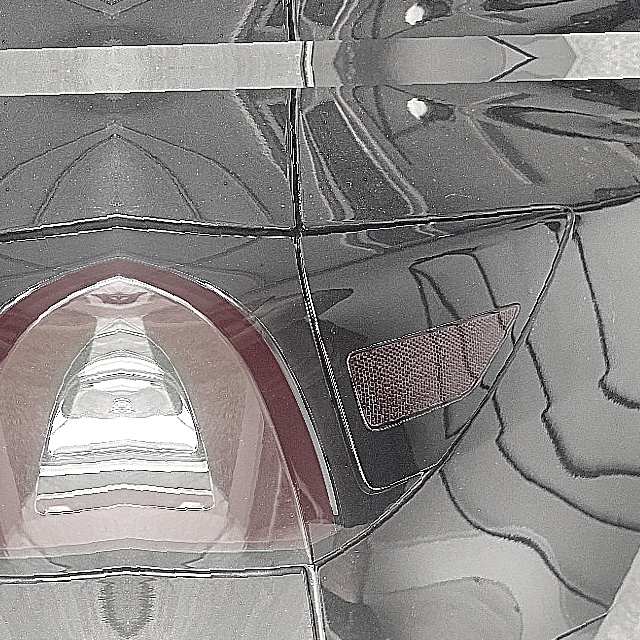reflector: (345, 302, 524, 431)
